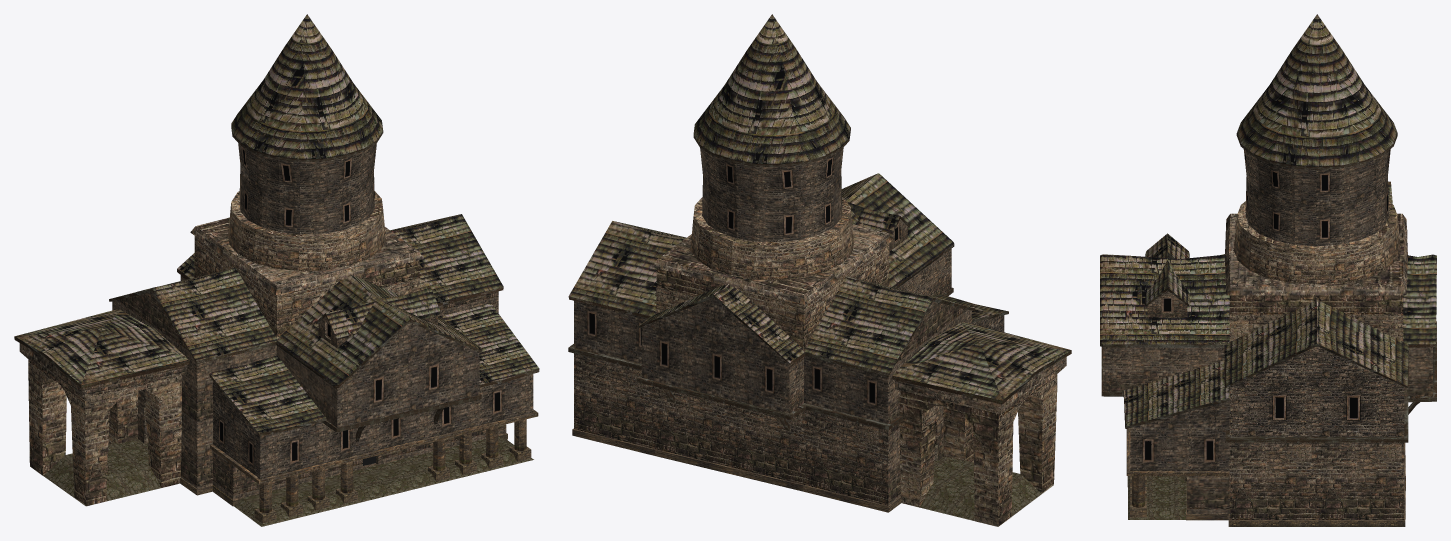
Rendered from academia_1.glb.
3 views of the same model, side by side, from view 1: azimuth 30°, elevation 25°; view 2: azimuth 150°, elevation 25°; view 3: azimuth 270°, elevation 25° (orthographic). The views are drawn at different scales.
Visible parts, largest first — view 1: Cube_0; view 2: Cube_0; view 3: Cube_0.
Part boxes in pixels (x1,y1,x2,y2): Cube_0: (14, 14, 539, 526); Cube_0: (568, 14, 1071, 526); Cube_0: (1100, 14, 1436, 526).
Bounding box in the file's own units: 0.4309 × 0.4119 × 0.2889.
Materials: 9 (8 with a texture image).
